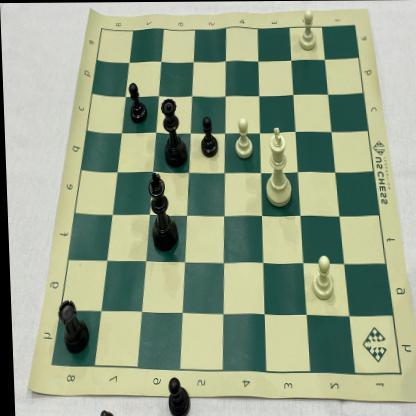black-king: (143, 170, 180, 255)
black-pawn: (197, 114, 220, 162), (126, 79, 148, 124)
black-queen: (159, 89, 187, 171)
black-rook: (55, 296, 92, 357)
white-king: (261, 124, 296, 211)
white-pawn: (306, 252, 337, 303), (295, 9, 320, 55), (232, 113, 255, 161)
